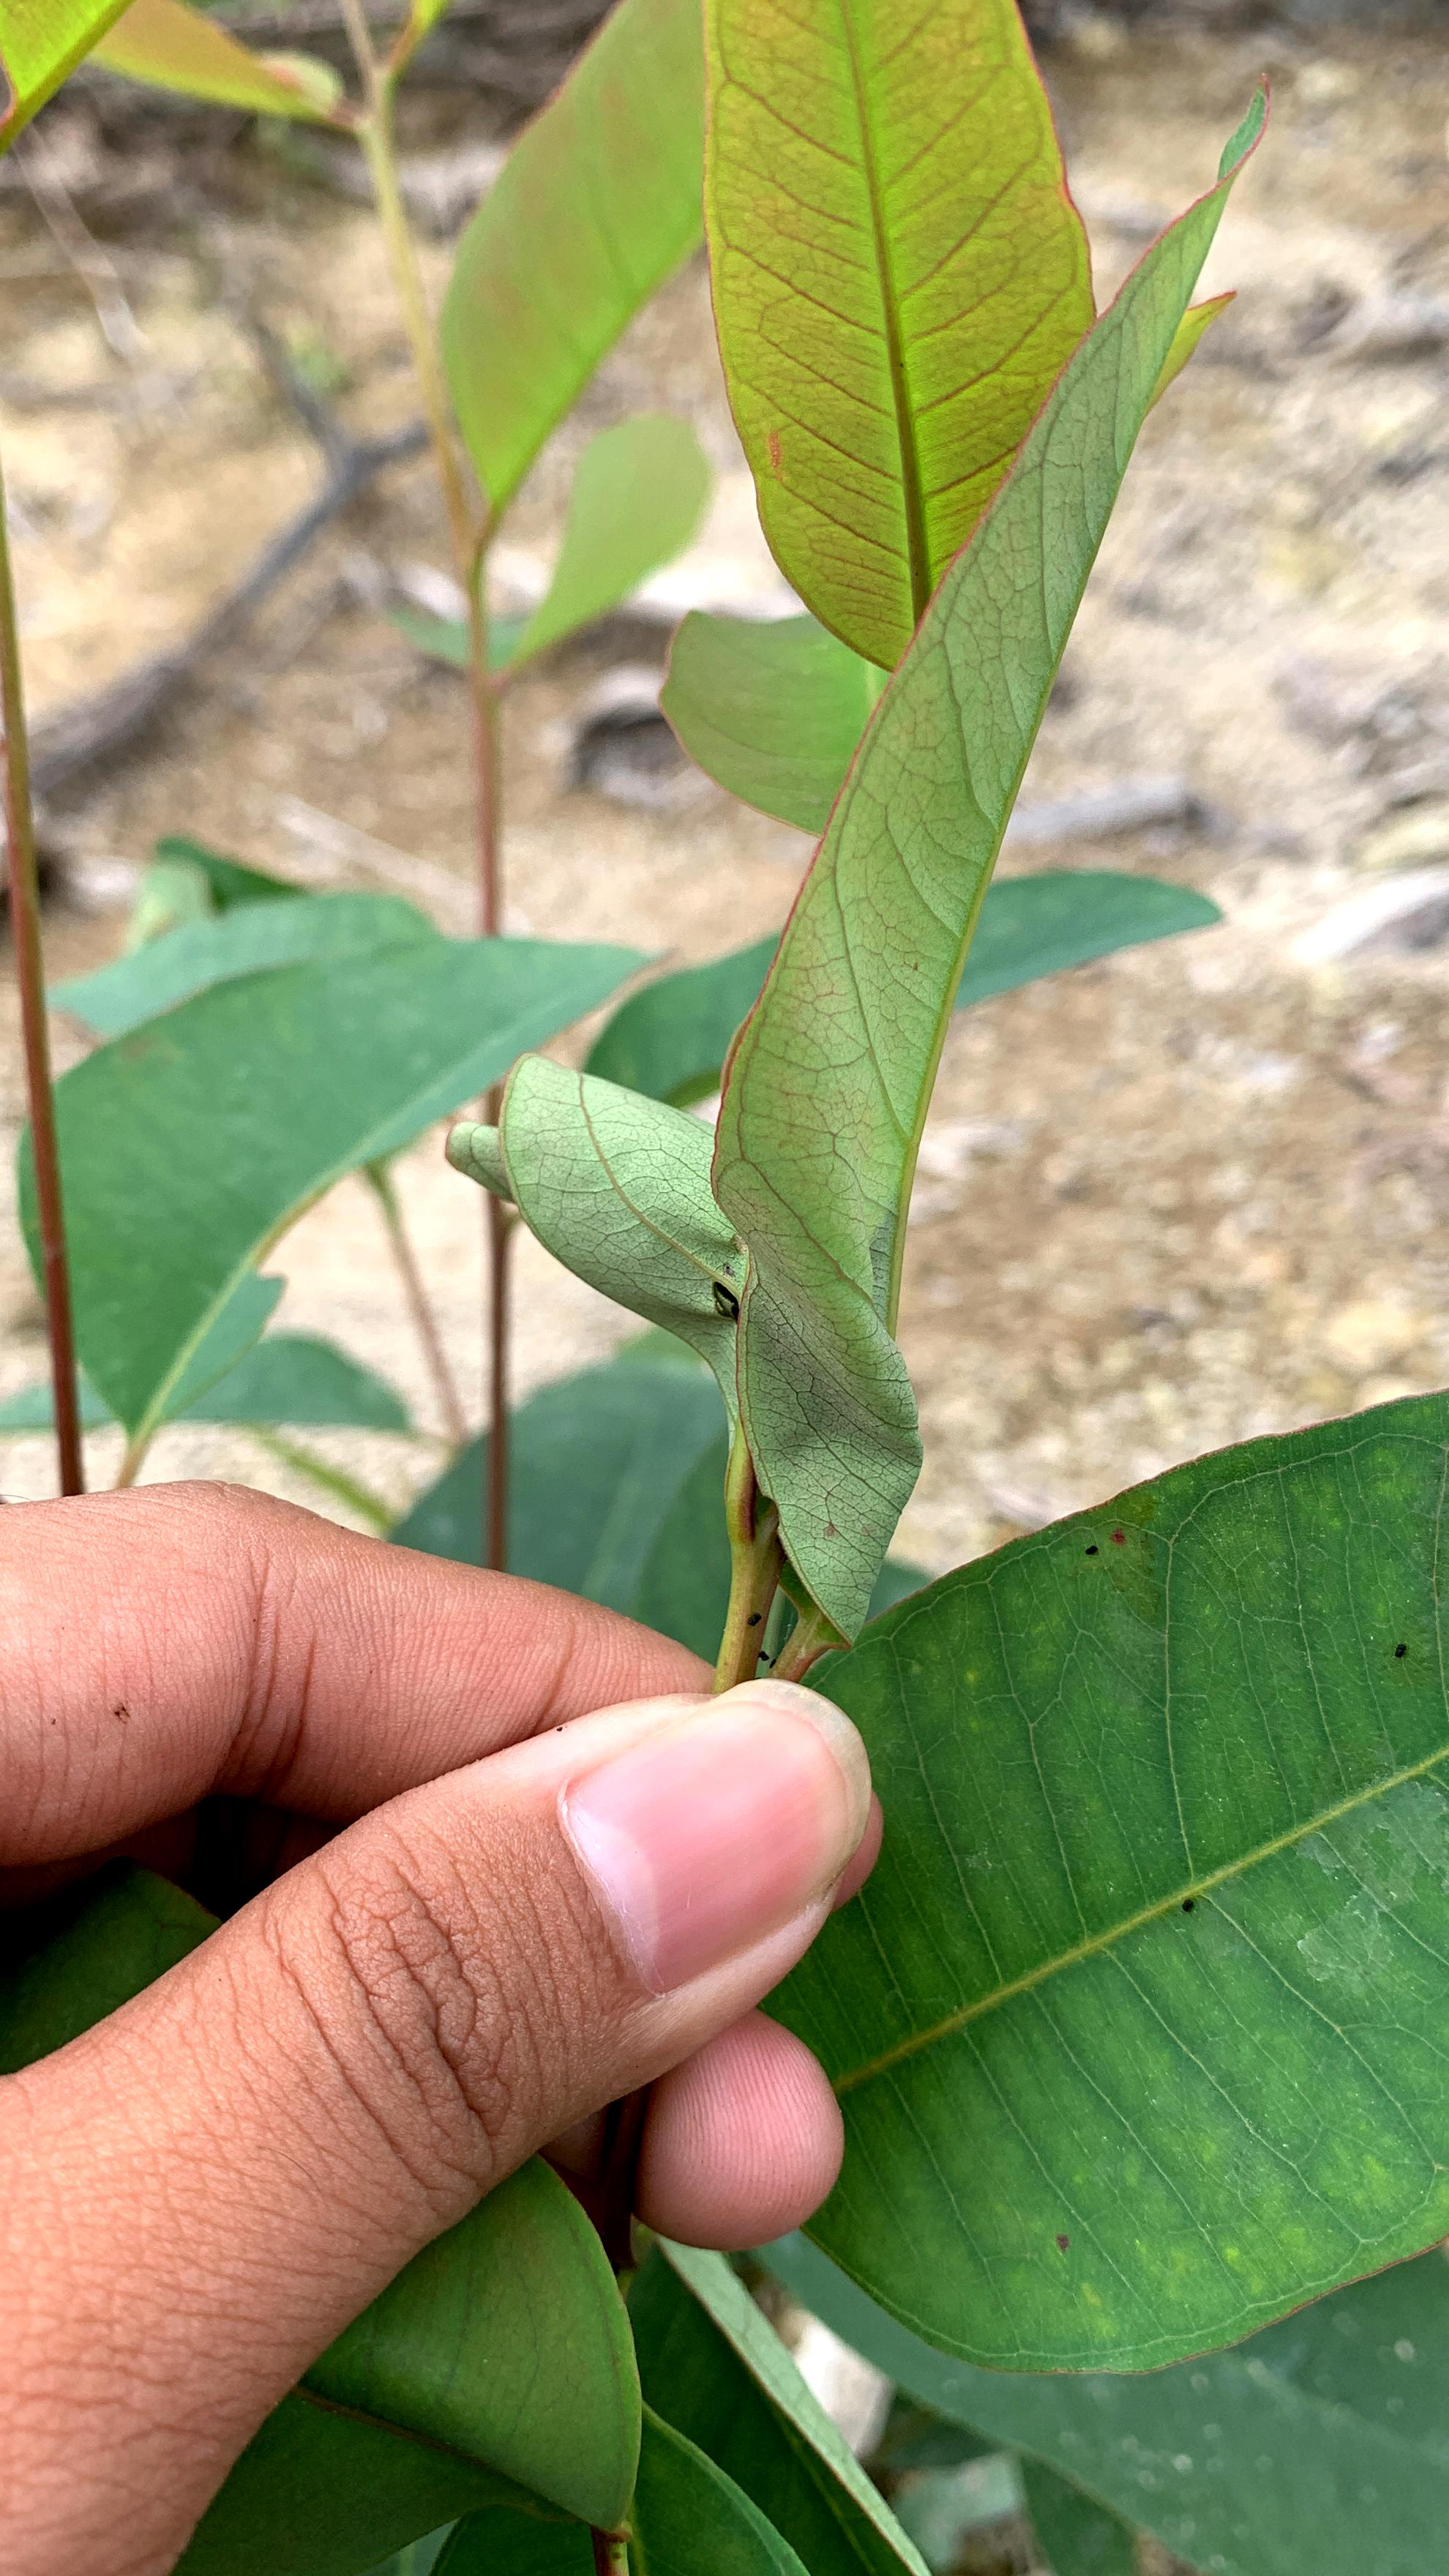Leaf Roller - Leaf: (396, 1047, 955, 1598)
